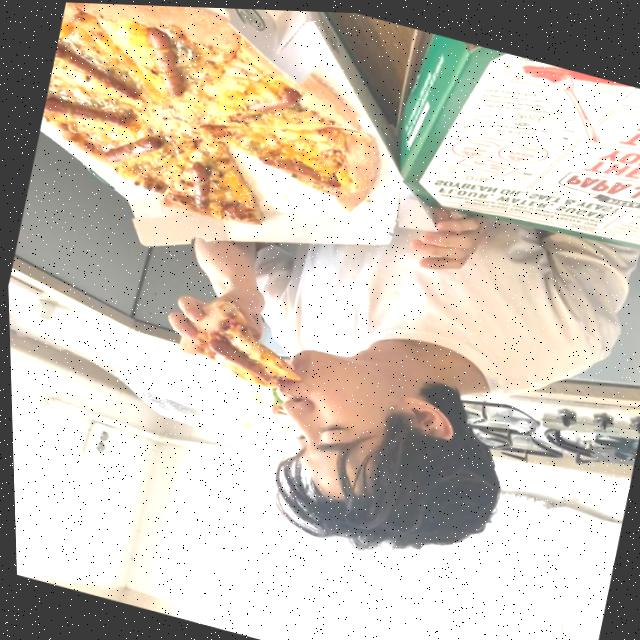eating-person: (94, 100, 640, 624)
